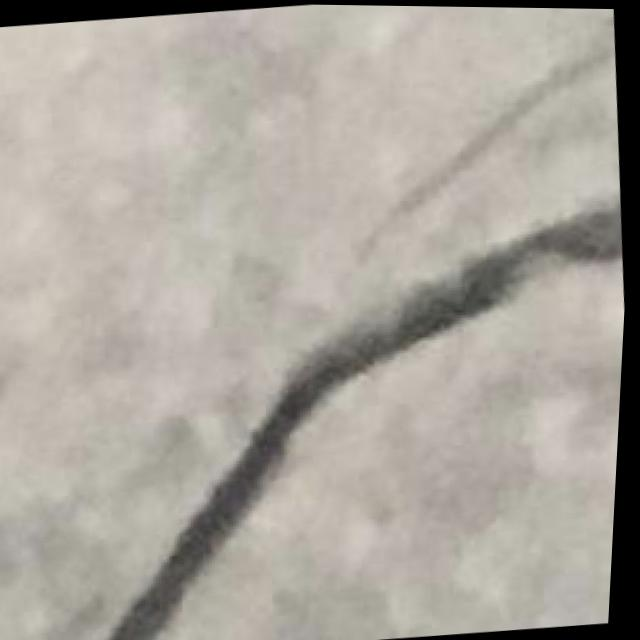Crack: (67, 185, 633, 640)
